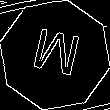M_S: (27, 25, 83, 85)
